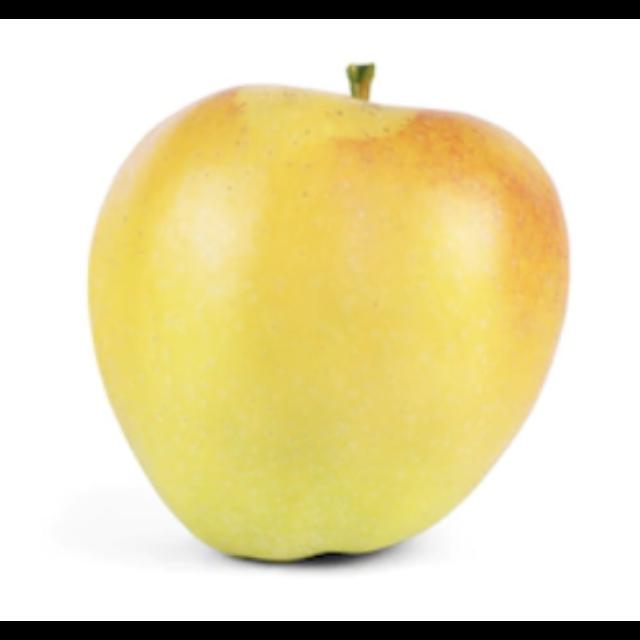Apel Segar: (83, 81, 569, 568)
